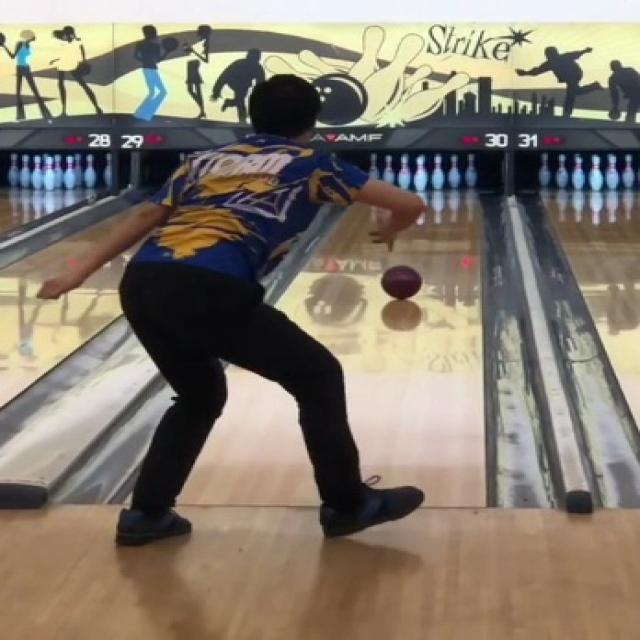alley: (278, 195, 480, 506), (178, 368, 313, 506)
balls: (381, 266, 421, 299)
bottle: (368, 152, 474, 190)
